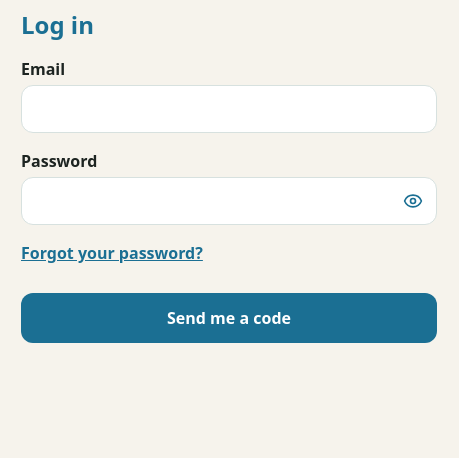
step 1: email and password › on 400 says: This account has no phone number, so no code can be sent.
The width and height of the screenshot is (459, 458).
Type "ada@example.com" into the field labelled "Email" at (229, 109), box [21,85,437,133]
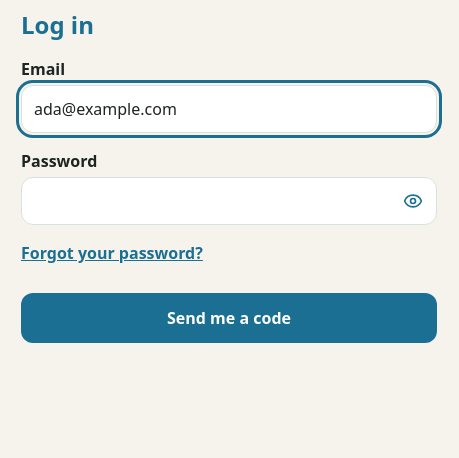
Type "a-long-password" into the password field labelled "Password" at (229, 201), box [21,177,437,225]
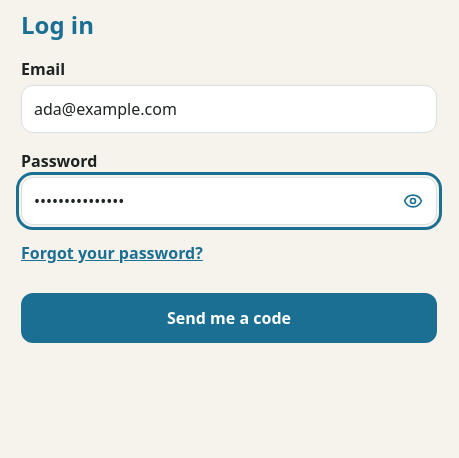
Click the button "Send me a code" at (229, 318), box [21,293,437,343]
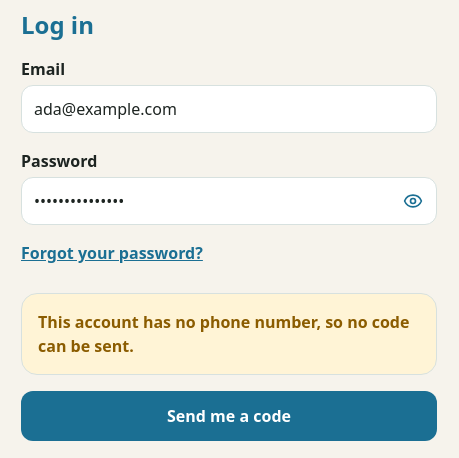
Expected: the text "This account has no phone number, so no code can be sent." is shown, [21,293,437,375]
